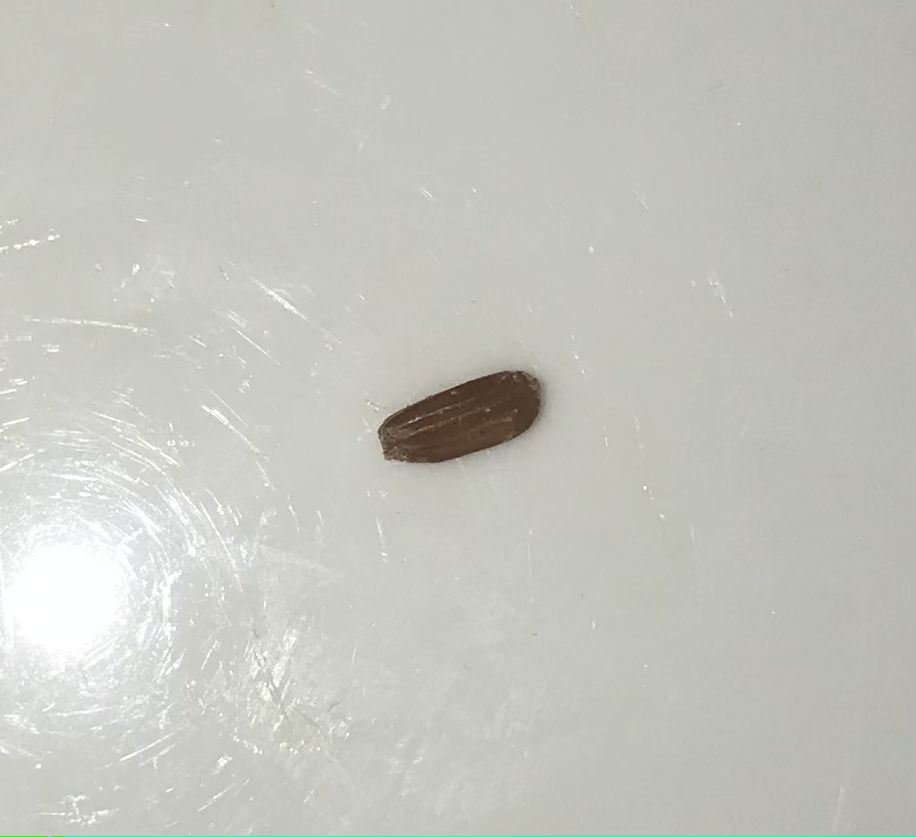Gao Lut Do: (375, 369, 552, 477)
